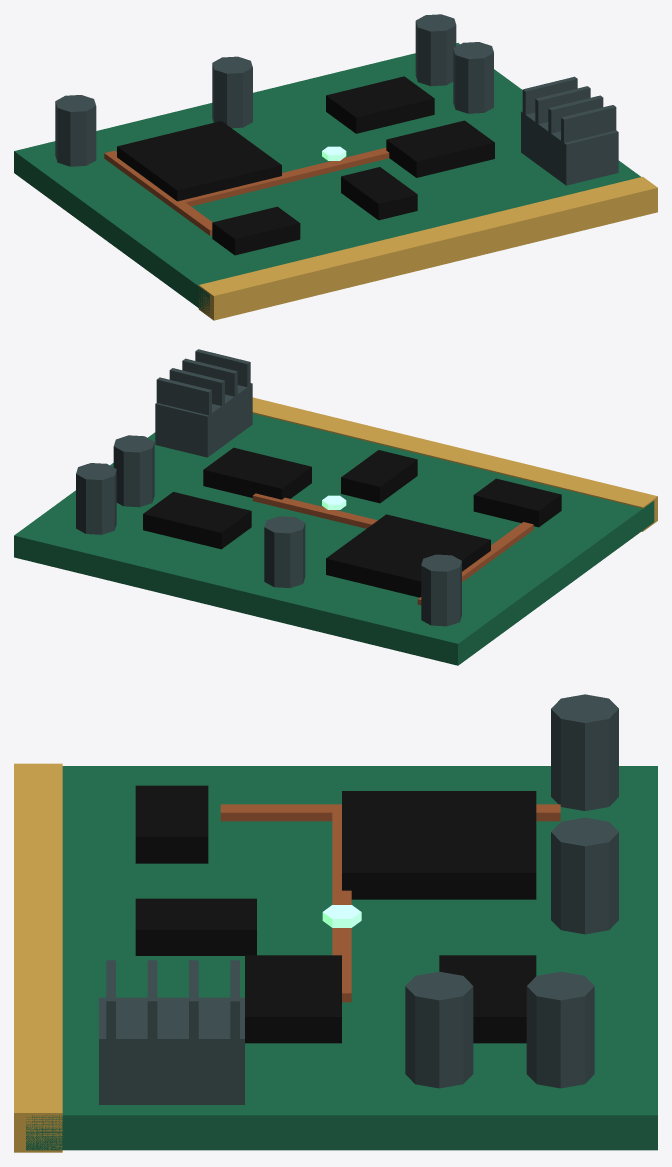
The model's file is scrap_circuit_board.fbx.
The picture shows the model from 3 angles, top to bottom: view 1: azimuth 30°, elevation 25°; view 2: azimuth 150°, elevation 25°; view 3: azimuth 270°, elevation 25°; orthographic projection. The views are drawn at different scales.
Parts seen in each view (by area): view 1: scrap_circuit_board; view 2: scrap_circuit_board; view 3: scrap_circuit_board.
Part boxes in pixels (x1,y1,x2,y2): scrap_circuit_board: (14, 14, 657, 320); scrap_circuit_board: (14, 349, 657, 665); scrap_circuit_board: (14, 694, 657, 1152).
Bounding box in the file's own units: 0.34 × 0.064 × 0.265.
Materials: 1 (1 with a texture image).
